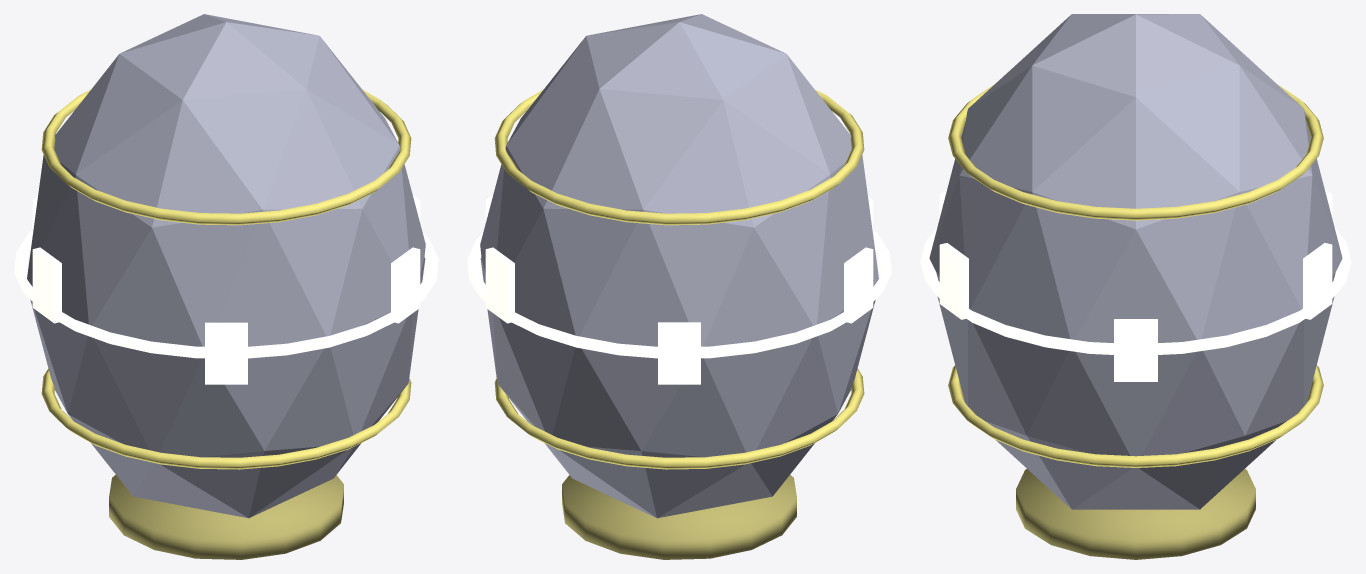
The model's file is egg_storm_08.glb.
3 views of the same model, side by side, from view 1: azimuth 30°, elevation 25°; view 2: azimuth 150°, elevation 25°; view 3: azimuth 270°, elevation 25° (orthographic).
Visible parts, largest first — view 1: ico; view 2: ico; view 3: ico.
Part boxes in pixels (left/top/right/bottom): ico: left=14, top=14, right=438, bottom=559; ico: left=467, top=14, right=891, bottom=559; ico: left=920, top=14, right=1351, bottom=559.
Size of the model in its own units: 0.79 by 1 by 0.79.
